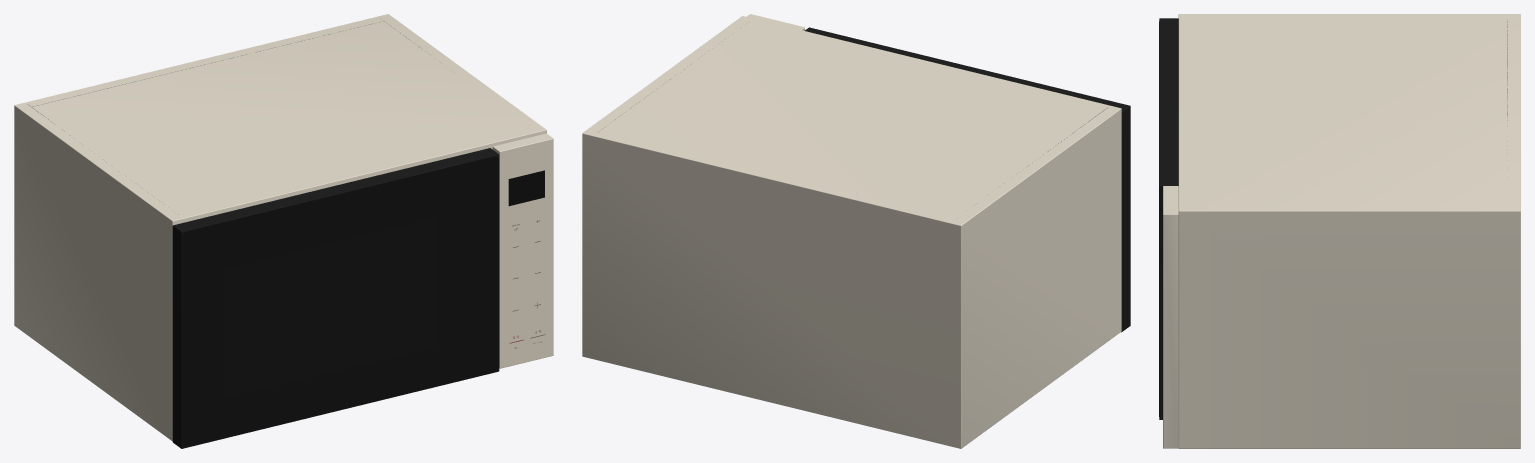
The model's file is MW23FDI.glb.
The picture shows the model from 3 angles, left to right: view 1: azimuth 30°, elevation 25°; view 2: azimuth 150°, elevation 25°; view 3: azimuth 270°, elevation 25°; orthographic projection. The views are drawn at different scales.
Parts seen in each view (by area): view 1: BodyShell, FullDoorGlass, SubtleWindow, ControlPanel, DoorBody, ControlDisplay; view 2: BodyShell, DoorBody; view 3: BodyShell, DoorBody, ControlPanel, FullDoorGlass.
Part boxes in pixels (x1,y1,x2,y2): BodyShell: (14, 14, 546, 441); FullDoorGlass: (182, 156, 498, 447); SubtleWindow: (224, 217, 436, 398); ControlPanel: (492, 133, 553, 368); DoorBody: (172, 148, 499, 448); ControlDisplay: (508, 170, 544, 206); BodyShell: (582, 16, 1121, 448); DoorBody: (804, 27, 1130, 332); BodyShell: (1178, 14, 1520, 448); DoorBody: (1159, 18, 1178, 419); ControlPanel: (1163, 186, 1178, 448); FullDoorGlass: (1159, 21, 1159, 416).
Size of the model in its own units: 0.476 by 0.272 by 0.369.
Materials: 10 (1 with a texture image).
